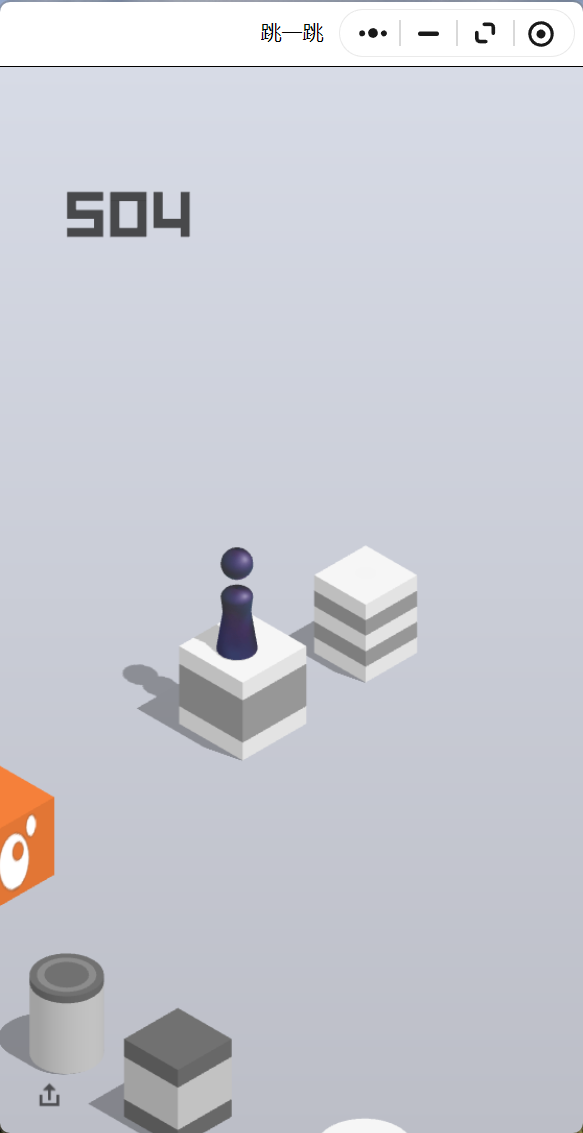piece: (221, 547, 251, 654)
target: (314, 545, 417, 603)
